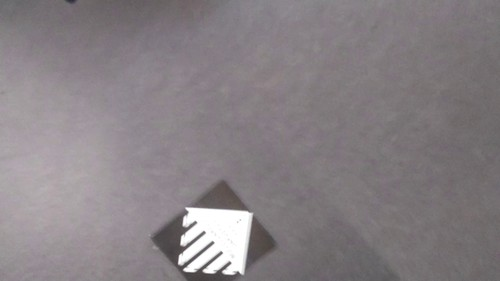misgoods: (172, 203, 258, 280)
